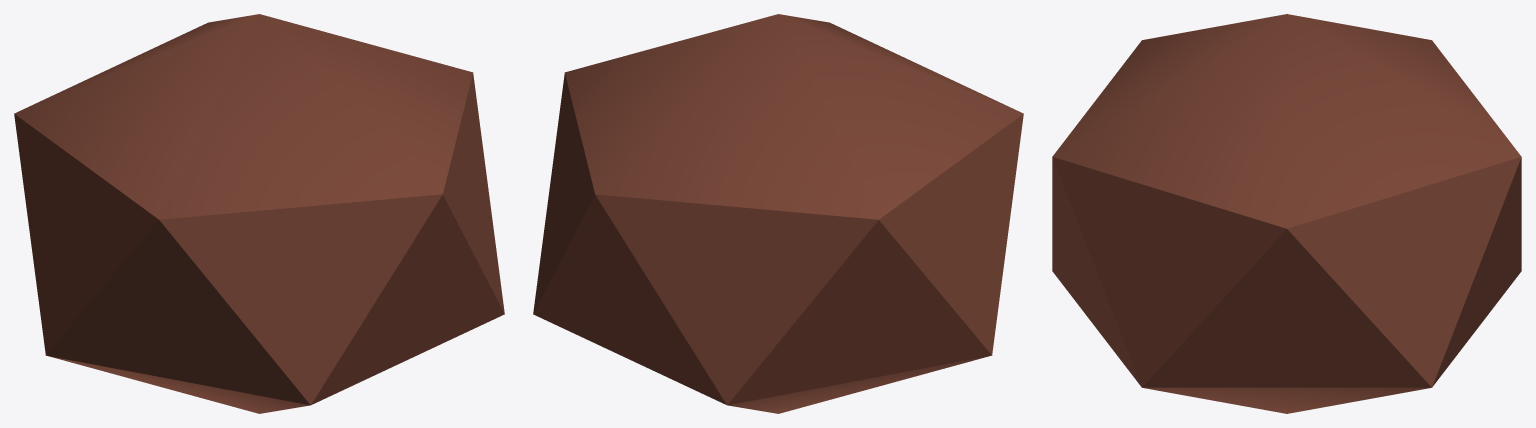
Rendered from good_12.glb.
The picture shows the model from 3 angles, left to right: view 1: azimuth 30°, elevation 25°; view 2: azimuth 150°, elevation 25°; view 3: azimuth 270°, elevation 25°; orthographic projection.
Parts seen in each view (by area): view 1: good_12; view 2: good_12; view 3: good_12.
Boxes of the visible parts, x1,y1,x2,y2 form: good_12: [14, 14, 504, 413]; good_12: [533, 14, 1023, 413]; good_12: [1052, 14, 1521, 413].
Size of the model in its own units: 0.0894 by 0.08 by 0.0851.
